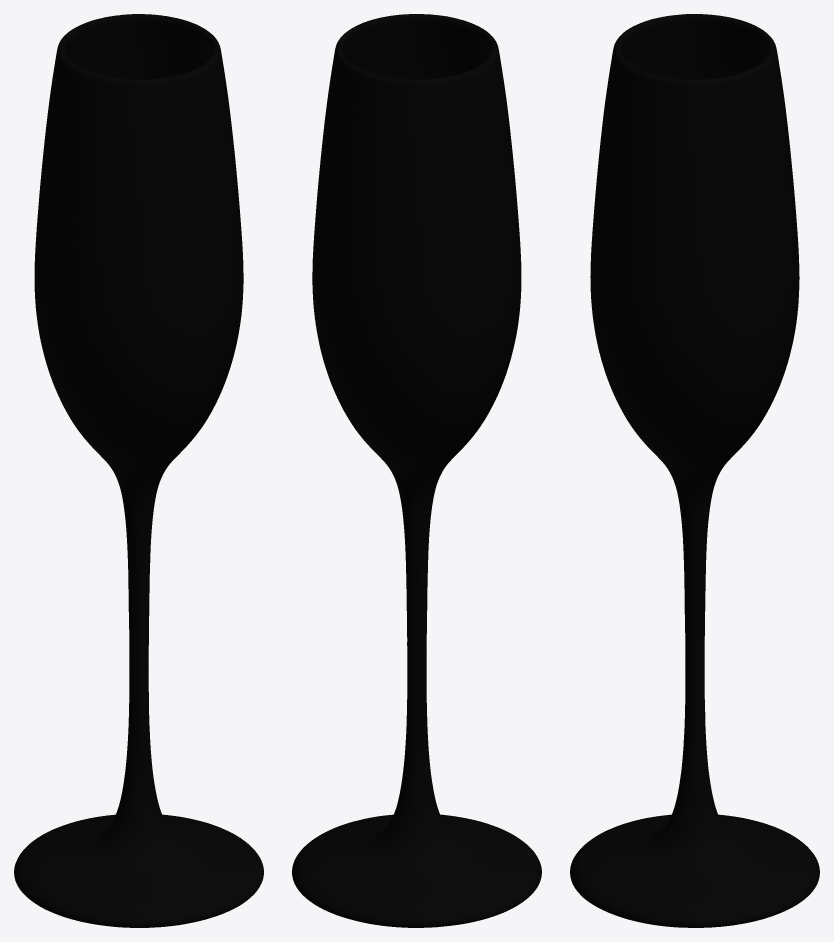
File: flute.glb
3 renders of one model, left to right at view 1: azimuth 30°, elevation 25°; view 2: azimuth 150°, elevation 25°; view 3: azimuth 270°, elevation 25°, orthographic.
Bounding box in the file's own units: 0.5174 × 1.9 × 0.5174.
1 material, 1 textured.
